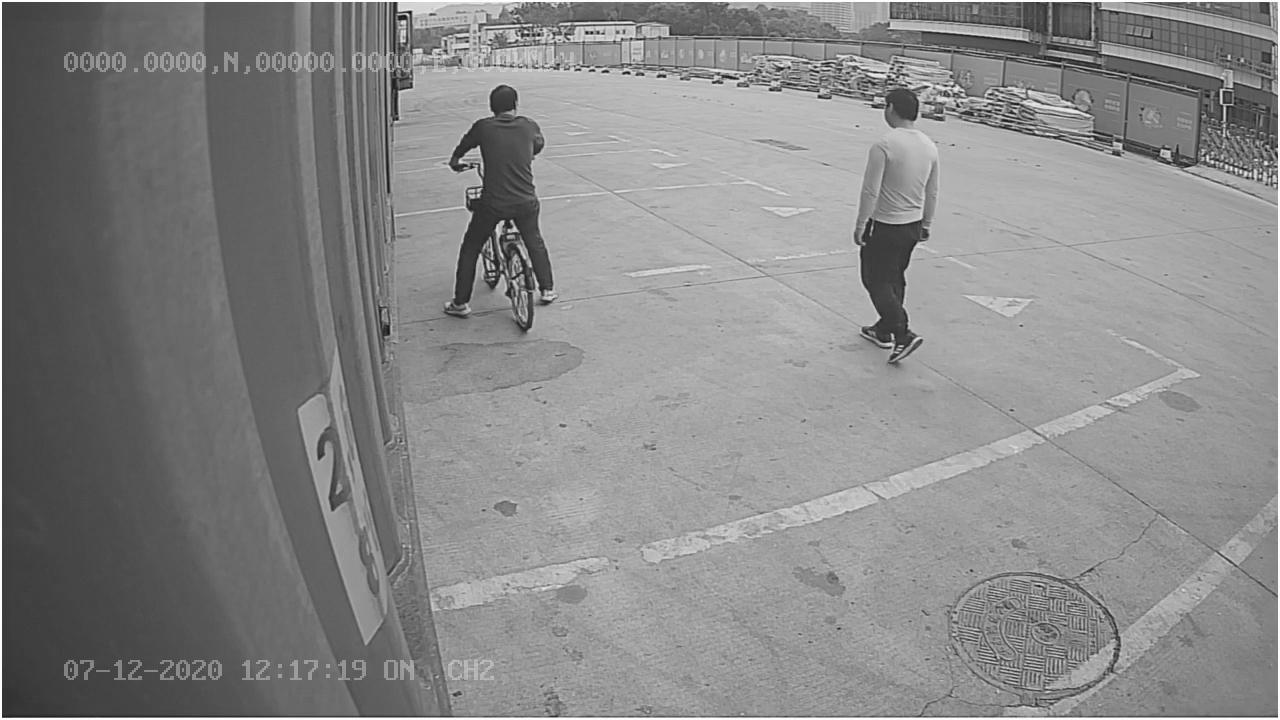person: (849, 84, 940, 367)
